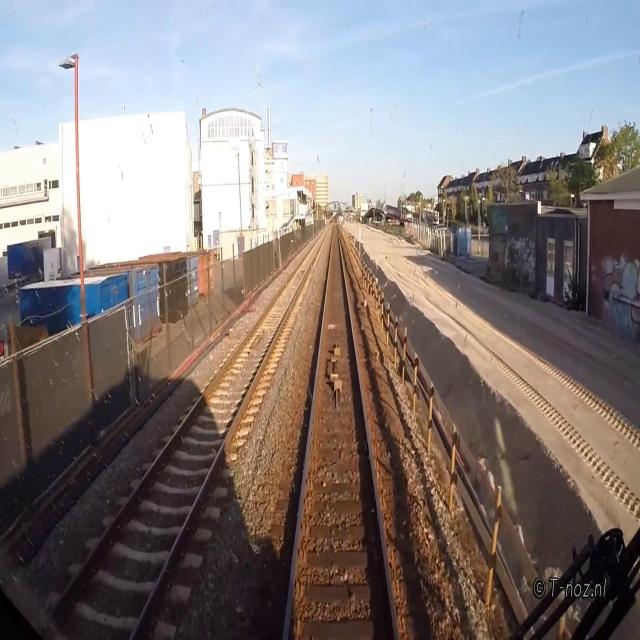rail-track: (35, 221, 331, 639), (286, 222, 395, 639)
